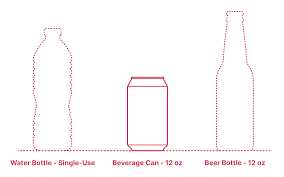can: (125, 74, 171, 154)
